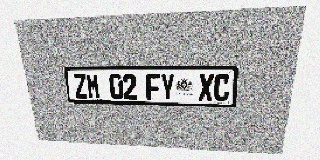0: (109, 74, 123, 99)
2: (122, 74, 137, 100)
C: (213, 74, 230, 102)
F: (146, 74, 160, 100)
M: (85, 74, 101, 99)
X: (198, 74, 214, 101)
Y: (160, 74, 174, 100)
Z: (73, 74, 88, 99)
